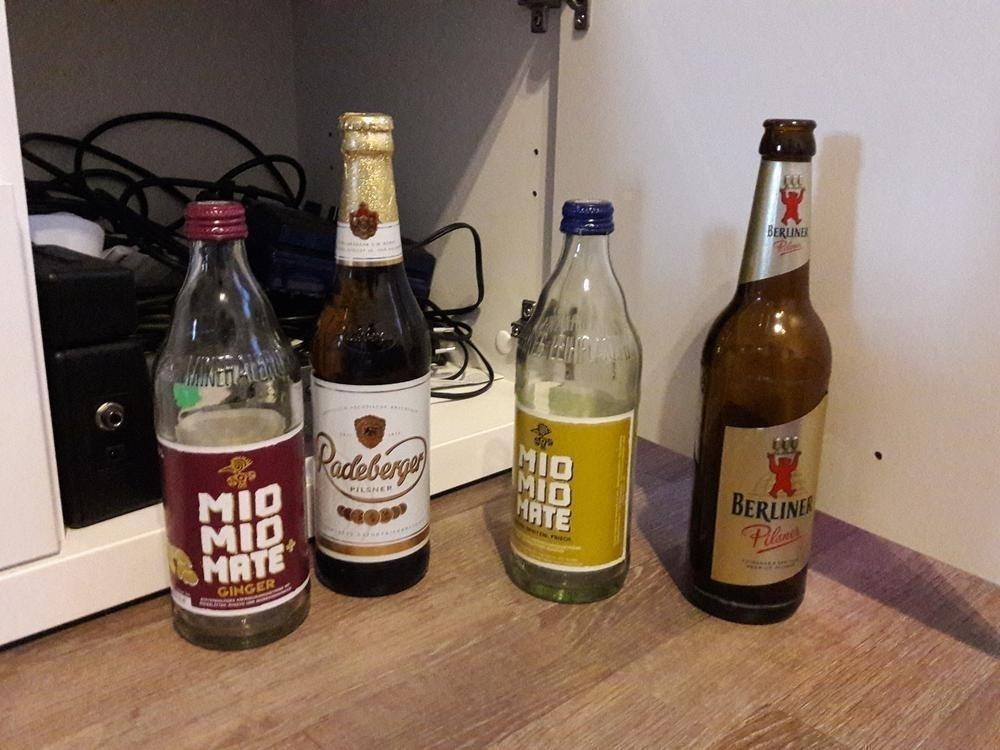bottle-glass: (150, 192, 315, 657), (684, 116, 834, 625), (308, 108, 431, 599), (503, 189, 644, 604)
